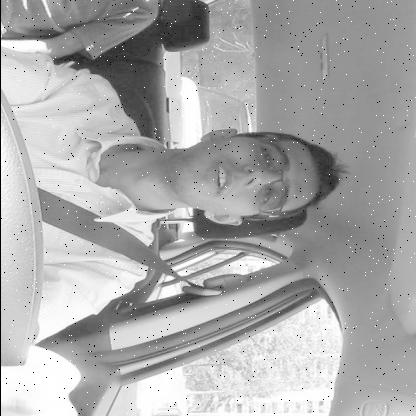seatbelt: (39, 123, 349, 301)
